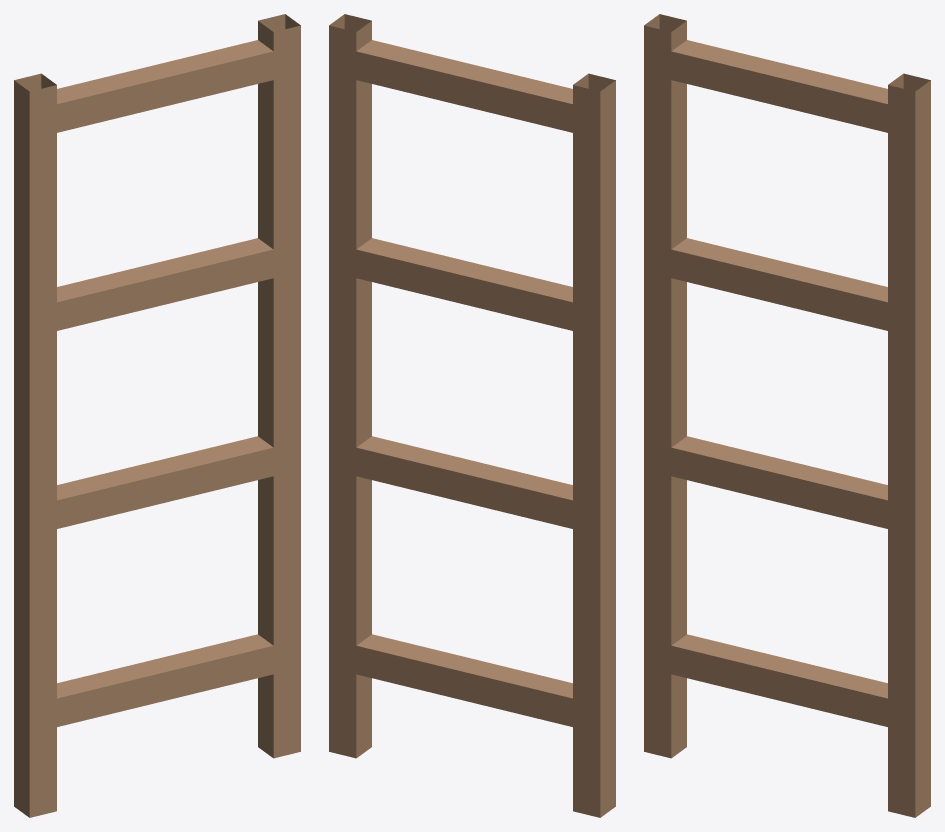
Rendered from Escada.fbx.
3 renders of one model, left to right at view 1: azimuth 30°, elevation 25°; view 2: azimuth 150°, elevation 25°; view 3: azimuth 330°, elevation 25°, orthographic.
Parts seen in each view (by area): view 1: Barra_Escada4; view 2: Barra_Escada4; view 3: Barra_Escada4.
Part boxes in pixels (x1,y1,x2,y2): Barra_Escada4: (14,14,300,817); Barra_Escada4: (329,14,615,817); Barra_Escada4: (644,14,930,817).
Size of the model in its own units: 166 by 424 by 16.57.
